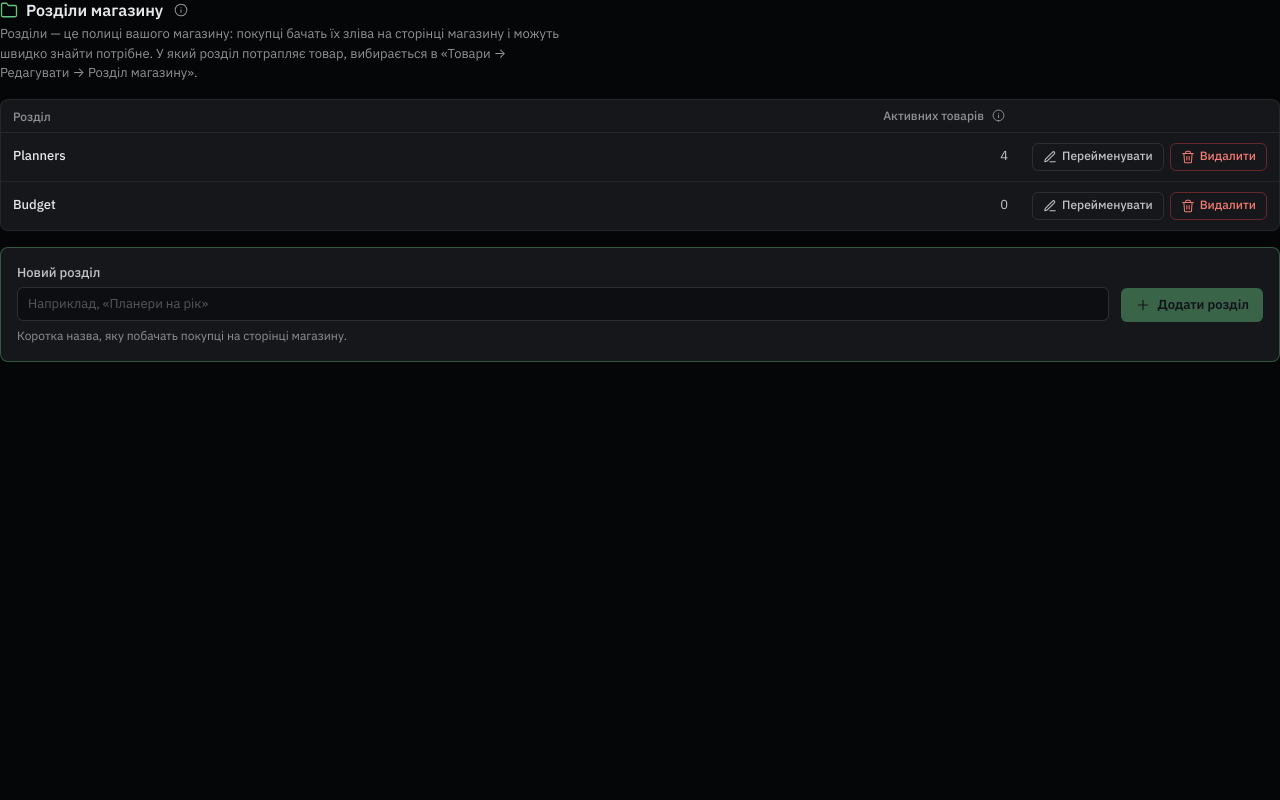
Test: Розділи › renames and deletes (confirmed); an Etsy error is an alert
Click the button with aria-label "Перейменувати розділ «Planners»" at (1098, 156), box [1032, 142, 1164, 170]
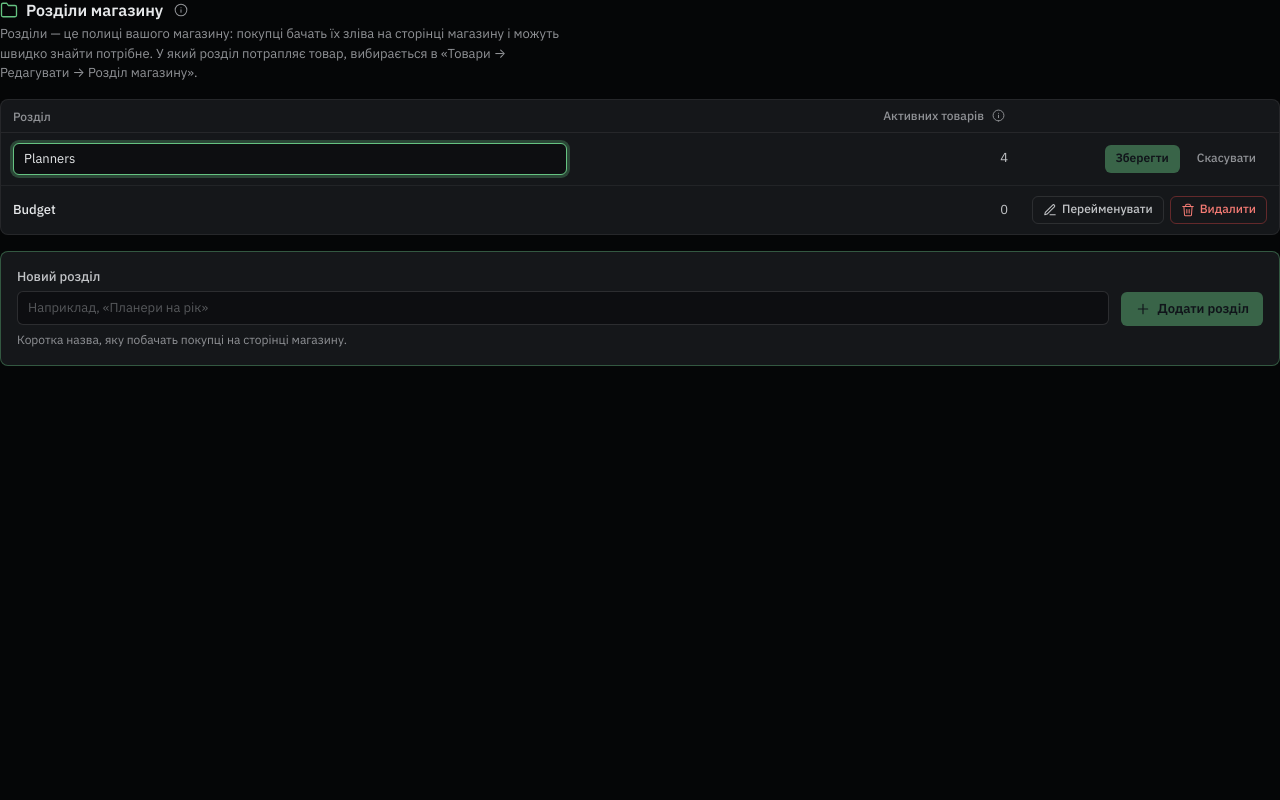
Expected: the button "Зберегти" is disabled, [1105, 145, 1180, 173]
Replace the text in the field named "Нова назва розділу" with "Plans" at (290, 159), box [13, 142, 567, 175]
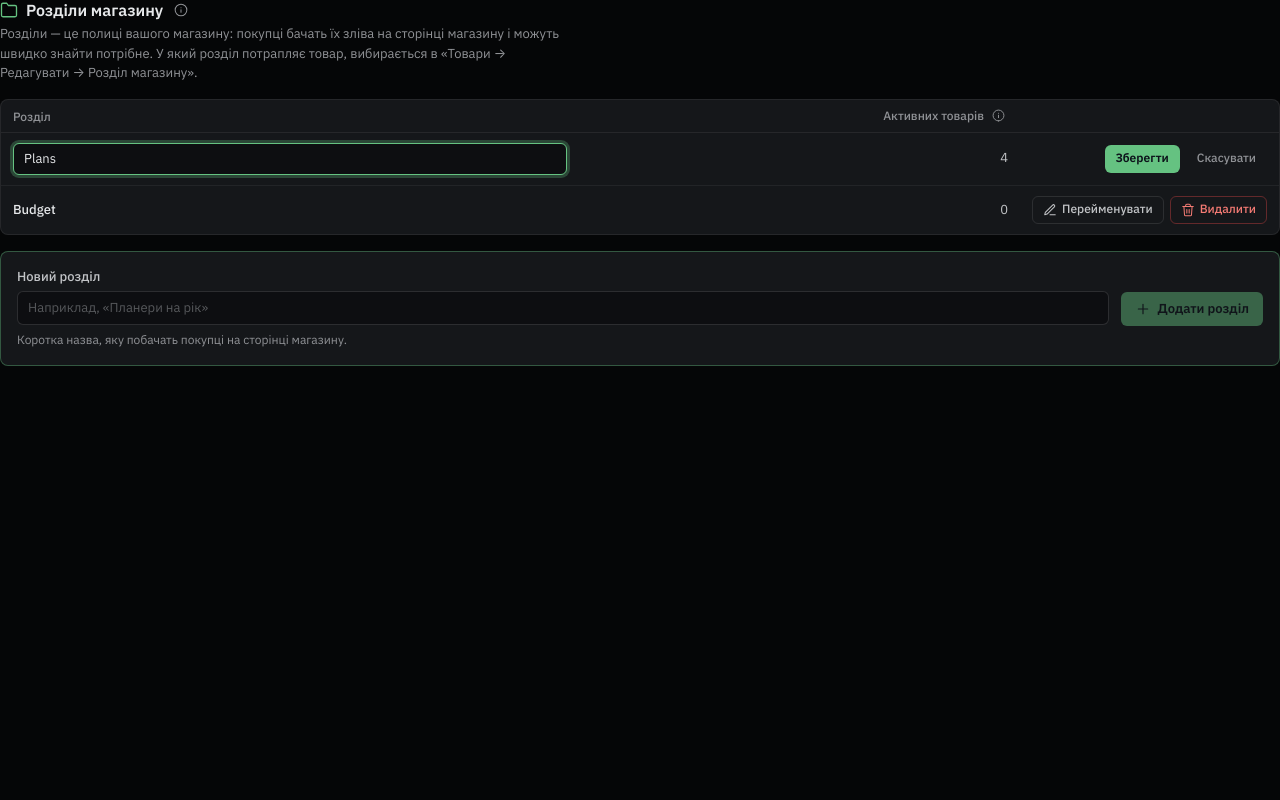
Click the button "Зберегти" at (1142, 159), box [1105, 145, 1180, 173]
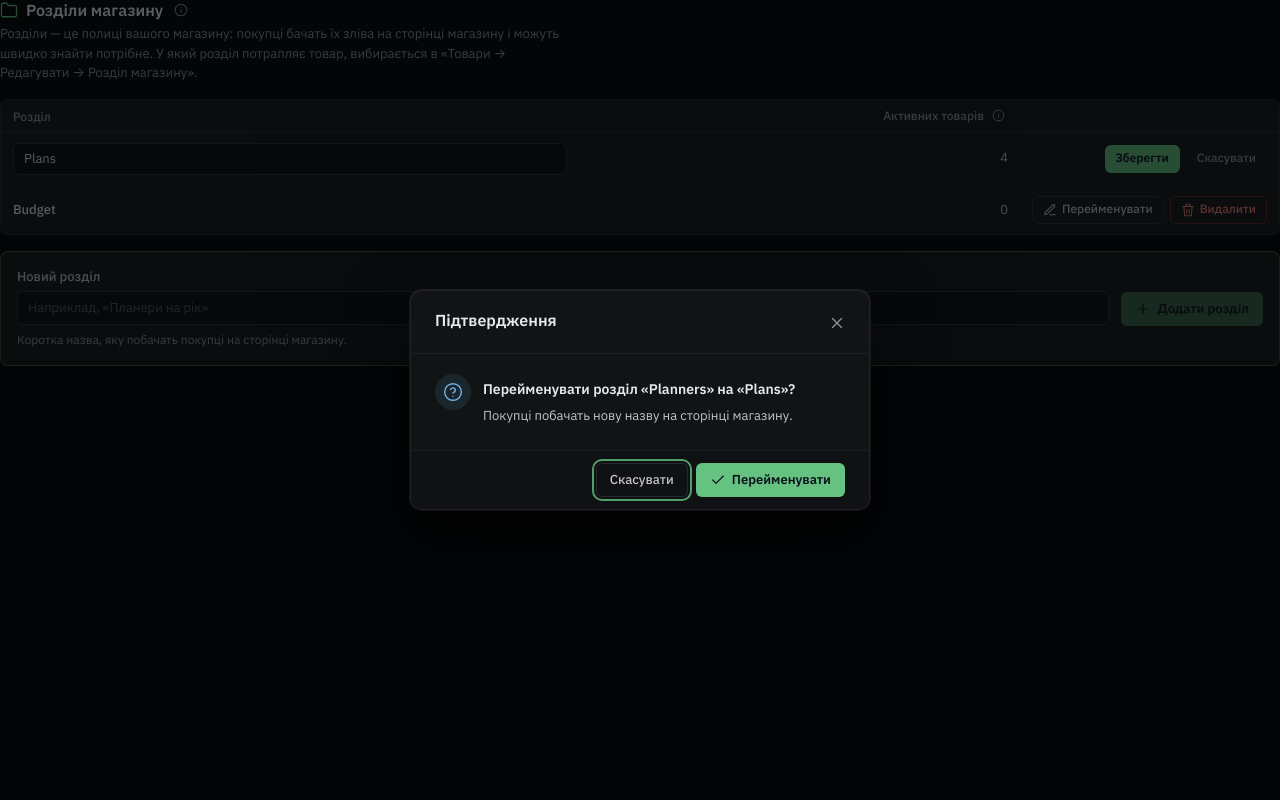
Expected: the button "Перейменувати" no longer shows "Скасувати"
Click the button "Перейменувати" at (770, 480), box [696, 462, 845, 496]
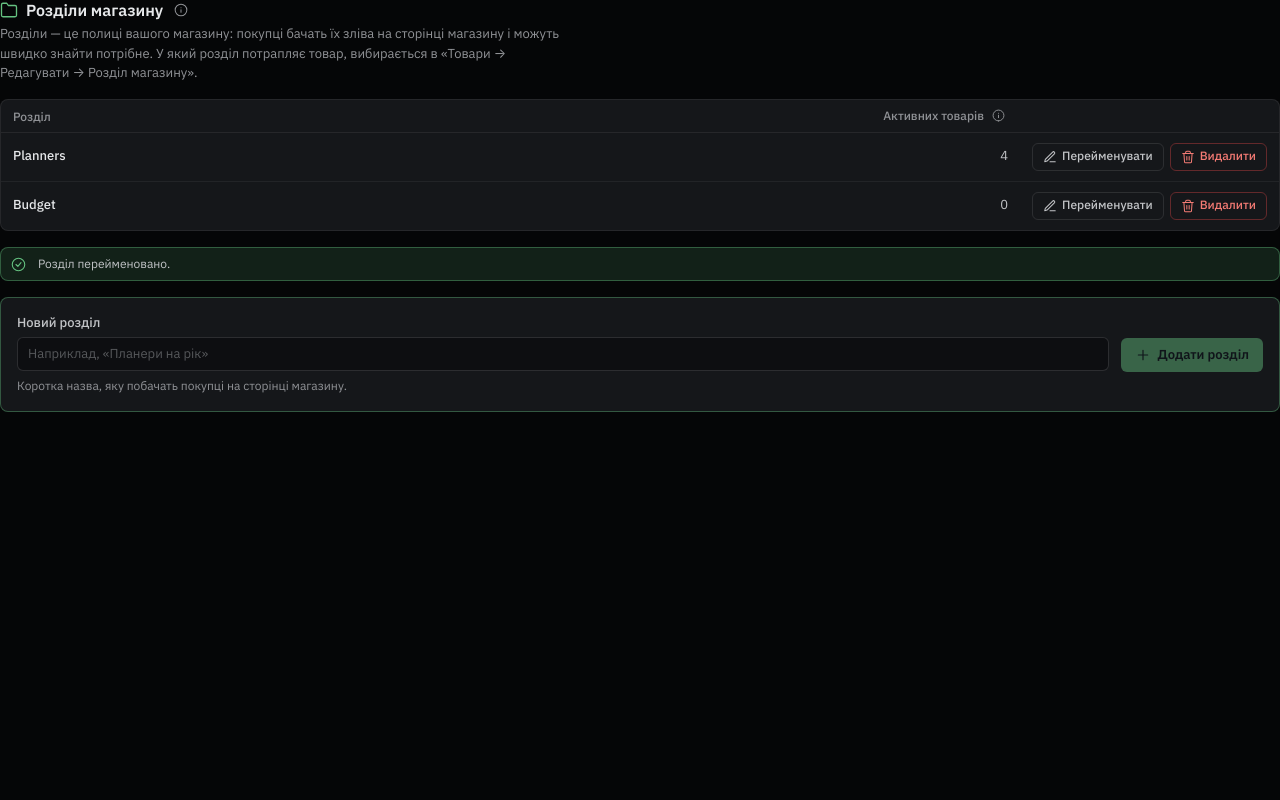
Click the button with aria-label "Видалити розділ «Budget»" at (1218, 206), box [1170, 192, 1267, 220]
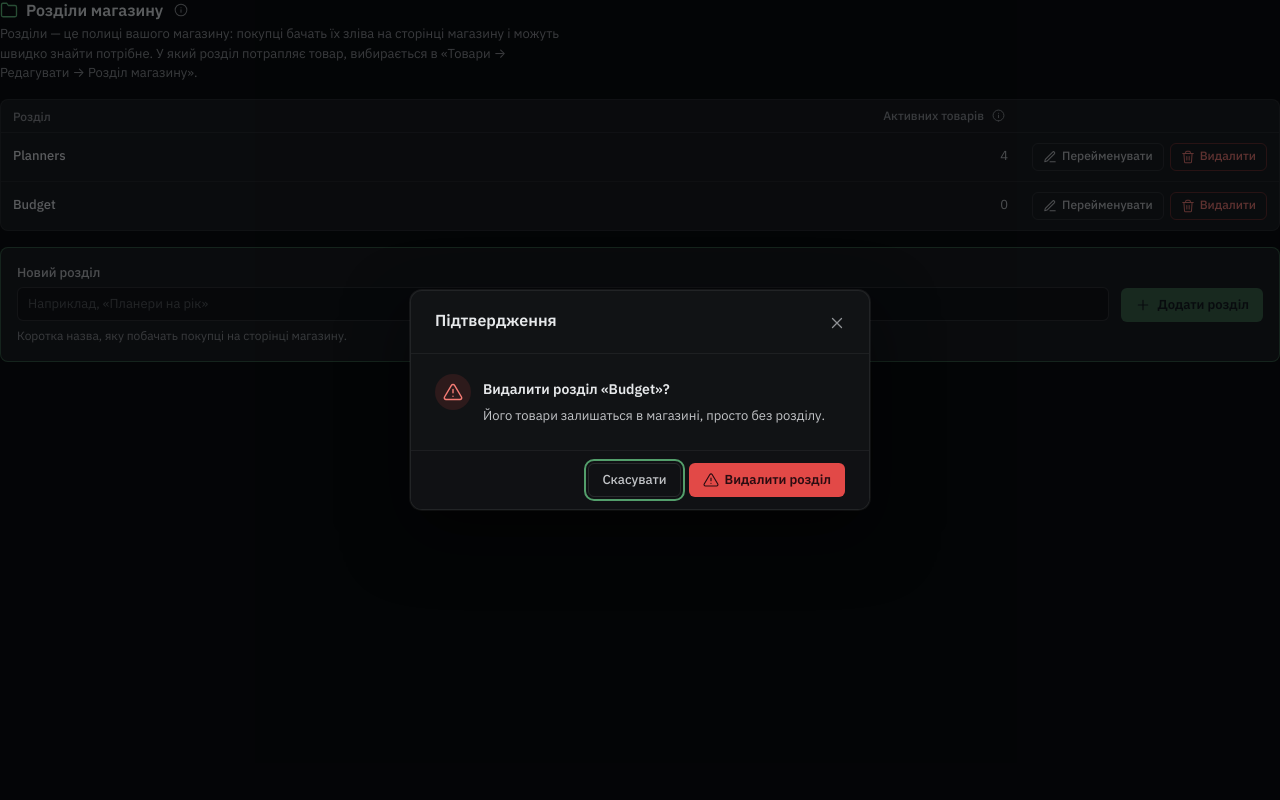
Expected: the button "Видалити розділ" does not show "Скасувати"
Click the button "Видалити розділ" at (767, 480), box [688, 462, 845, 496]
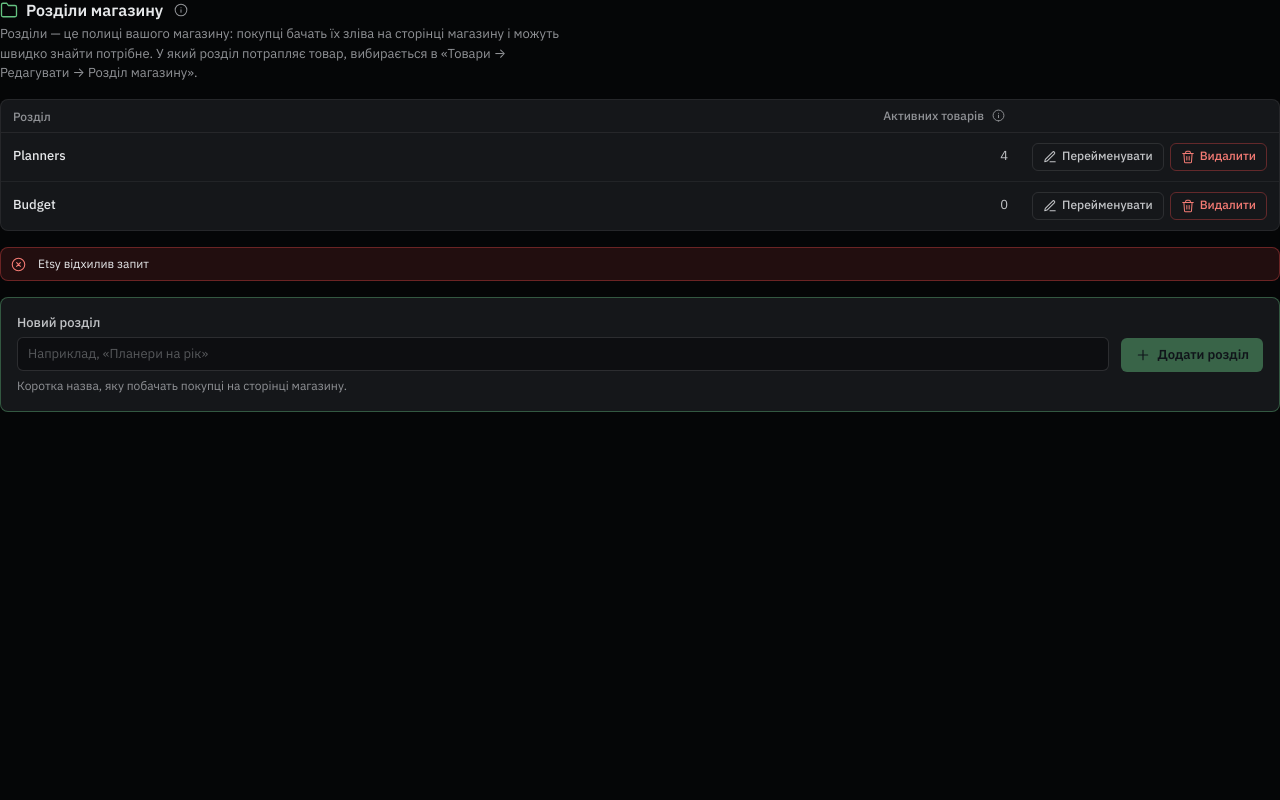
Expected: the message reads "Etsy відхилив запит", [38, 256, 149, 270]
